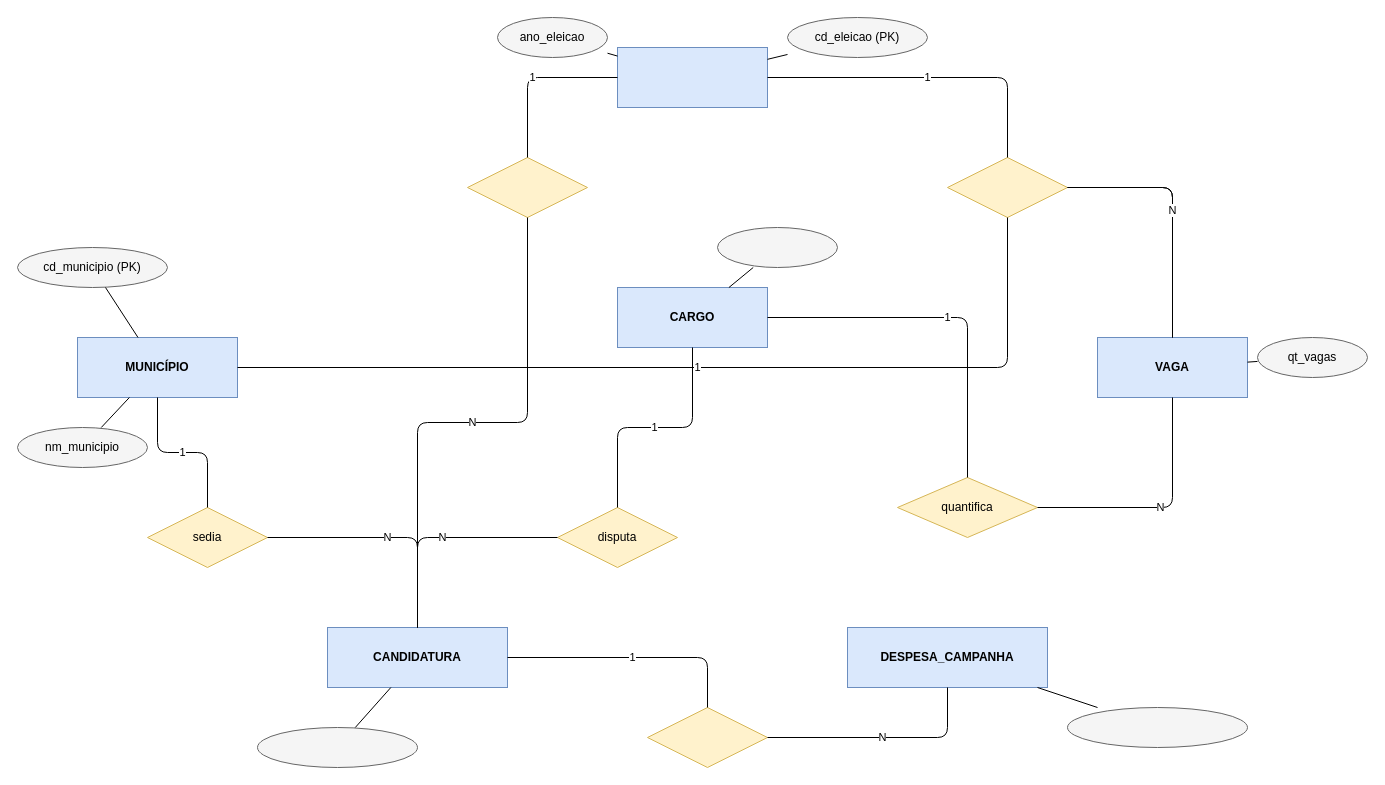
Image size: 1385x785. Some labels were removed from this diagram. The centre of each missing label's shape, as x and y in pixels:
cd_cargo (PK): point 777,247
contrata: point 707,737
contém: point 527,187
ELEIÇÃO: point 692,77
oferta: point 1007,187
sq_candidato (PK): point 337,747
vr_despesa_contratada: point 1157,727
